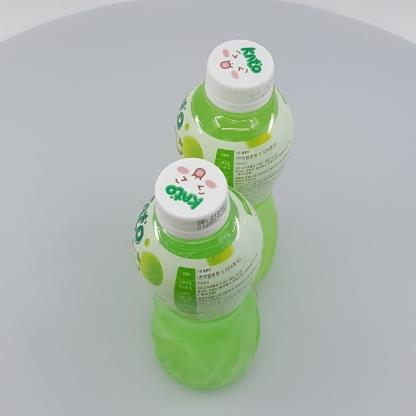-----------: (132, 158, 264, 390), (174, 39, 295, 289)
